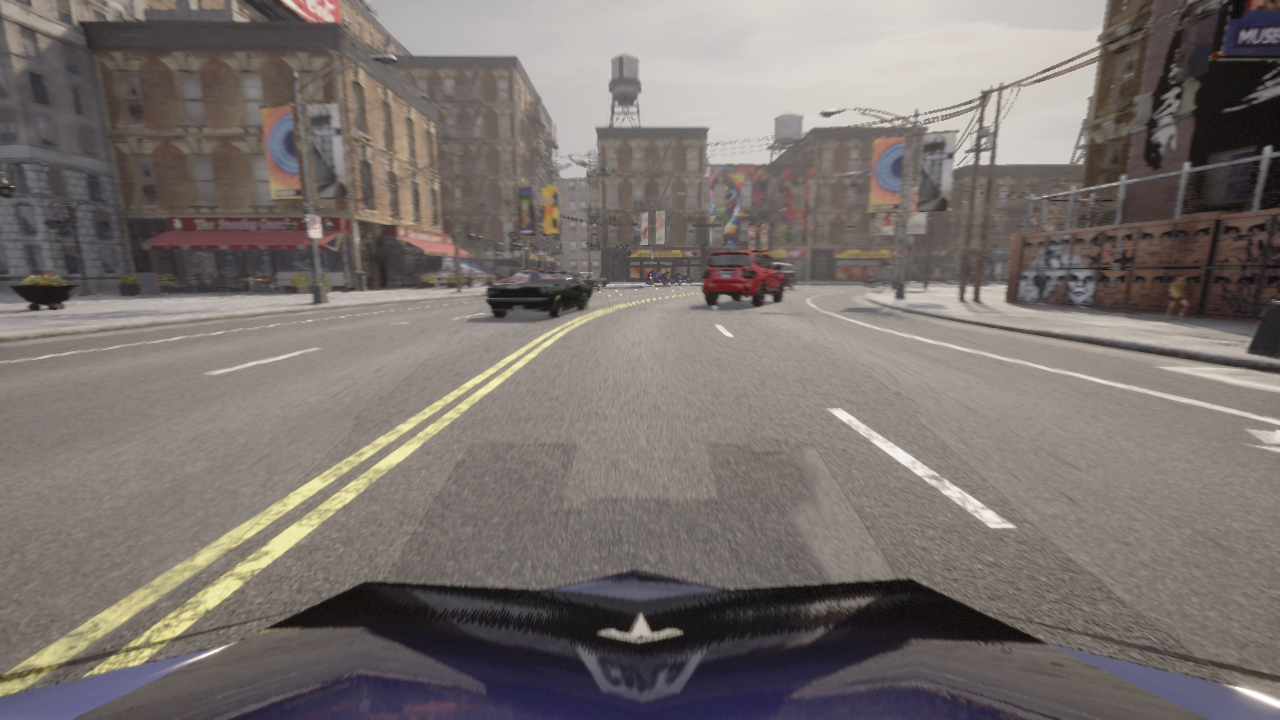cyclist: (0, 569, 1279, 719), (485, 271, 591, 317), (701, 251, 784, 305), (496, 269, 541, 285), (772, 262, 795, 289), (574, 272, 607, 290), (863, 270, 899, 285), (646, 272, 668, 284), (670, 273, 692, 284), (666, 272, 680, 284), (966, 277, 986, 284), (599, 274, 600, 276)
pedestrian: (1164, 273, 1188, 320)
